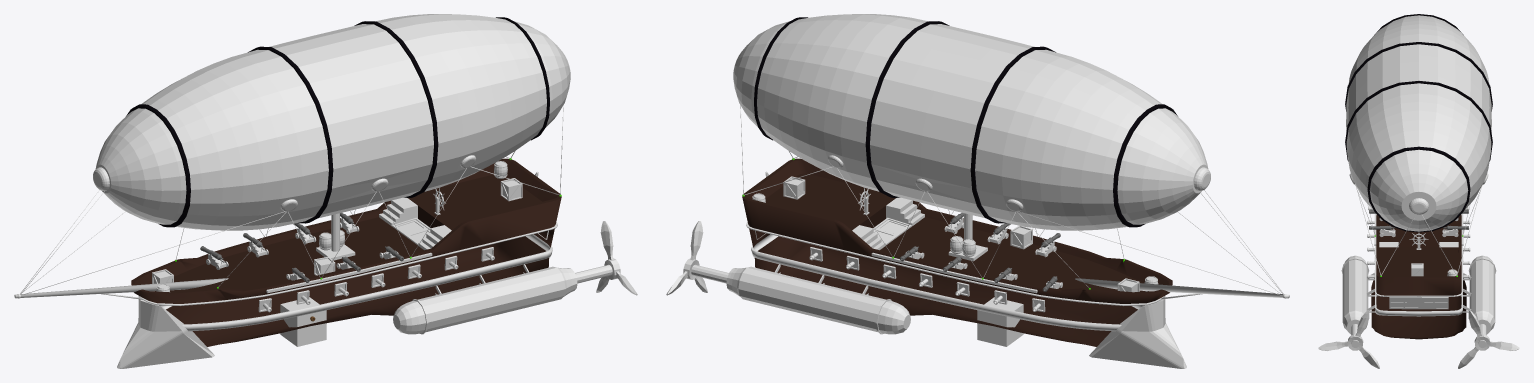
Rendered from cannon.fbx.
3 renders of one model, left to right at view 1: azimuth 30°, elevation 25°; view 2: azimuth 150°, elevation 25°; view 3: azimuth 270°, elevation 25°, orthographic. The views are drawn at different scales.
Visible parts, largest first — view 1: Balloon, Ship Body, Engines.001, Ram Scoop, Details, Cube, Ropes and Rigging, Steps, Crate, Cannon Base, Propellor, Cannon Barrell (+2 smaller); view 2: Balloon, Ship Body, Engines.001, Ram Scoop, Details, Ropes and Rigging, Cube, Steps, Crate, Cannon Base, Propellor, Cannon Barrell (+2 smaller); view 3: Balloon, Ship Body, Engines.001, Propellor, Back Window, Ropes and Rigging, Cannon Barrell.001, Cannon Base, Cannon Barrell, Steps, Crate.
Boxes of the visible parts, <box> form: Balloon: <box>93,14,570,251</box>; Ship Body: <box>131,158,561,346</box>; Engines.001: <box>393,264,612,334</box>; Ram Scoop: <box>117,296,214,368</box>; Details: <box>14,247,493,312</box>; Cube: <box>280,297,326,346</box>; Ropes and Rigging: <box>20,105,563,294</box>; Steps: <box>379,197,451,250</box>; Crate: <box>152,178,522,283</box>; Cannon Base: <box>206,216,398,280</box>; Propellor: <box>535,171,637,295</box>; Cannon Barrell: <box>200,213,403,282</box>; Balloon: <box>733,14,1210,240</box>; Ship Body: <box>742,158,1172,346</box>; Engines.001: <box>691,264,910,334</box>; Ram Scoop: <box>1089,296,1186,368</box>; Details: <box>810,247,1289,312</box>; Ropes and Rigging: <box>740,105,1283,295</box>; Cube: <box>977,297,1023,346</box>; Steps: <box>852,197,924,250</box>; Crate: <box>783,176,1139,292</box>; Cannon Base: <box>905,216,1062,288</box>; Propellor: <box>666,171,768,295</box>; Cannon Barrell: <box>899,213,1060,291</box>; Balloon: <box>1345,14,1492,232</box>; Ship Body: <box>1371,213,1466,339</box>; Engines.001: <box>1341,255,1496,347</box>; Propellor: <box>1318,310,1519,368</box>; Back Window: <box>1389,297,1448,309</box>; Ropes and Rigging: <box>1355,185,1482,276</box>; Cannon Barrell.001: <box>1367,206,1470,278</box>; Cannon Base: <box>1379,218,1458,237</box>; Cannon Barrell: <box>1369,210,1468,229</box>; Steps: <box>1379,242,1458,247</box>; Crate: <box>1411,263,1423,276</box>.
Size of the model in its own units: 3839 by 1893 by 1570.
